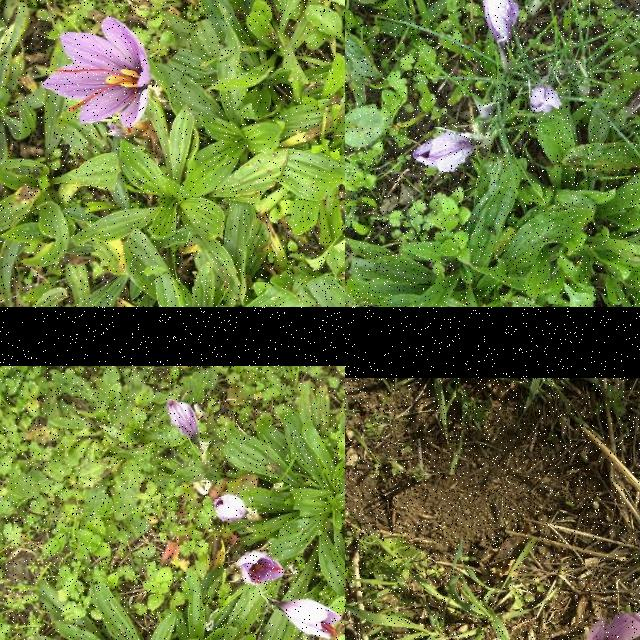flower: (40, 15, 152, 136), (276, 598, 341, 640), (412, 132, 474, 174), (483, 0, 521, 46), (238, 550, 286, 586), (166, 399, 200, 445), (528, 83, 564, 115), (213, 492, 247, 522)
